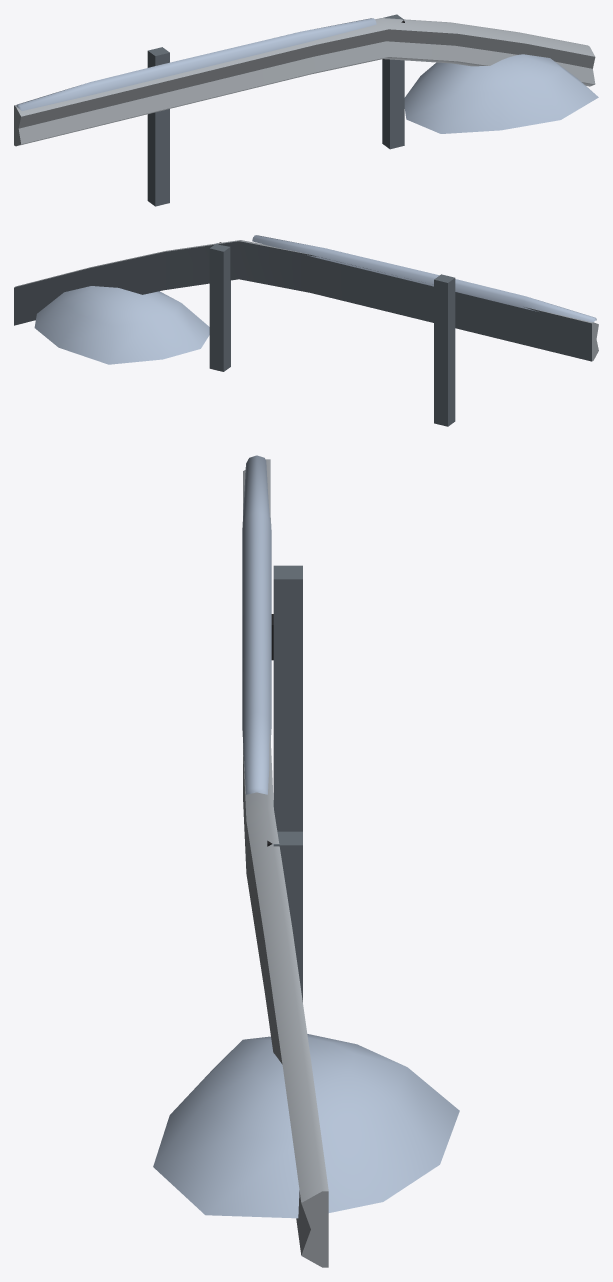
Rendered from guardrail_end.glb.
3 renders of one model, top to bottom at view 1: azimuth 30°, elevation 25°; view 2: azimuth 150°, elevation 25°; view 3: azimuth 270°, elevation 25°, orthographic. The views are drawn at different scales.
Visible parts, largest first — view 1: Rail; view 2: Rail; view 3: Rail.
Part boxes in pixels (<box>): Rail: <box>14,14,598,206</box>; Rail: <box>14,235,598,426</box>; Rail: <box>153,455,459,1267</box>.
Size of the model in its own units: 4.02 by 0.98 by 0.9477.
